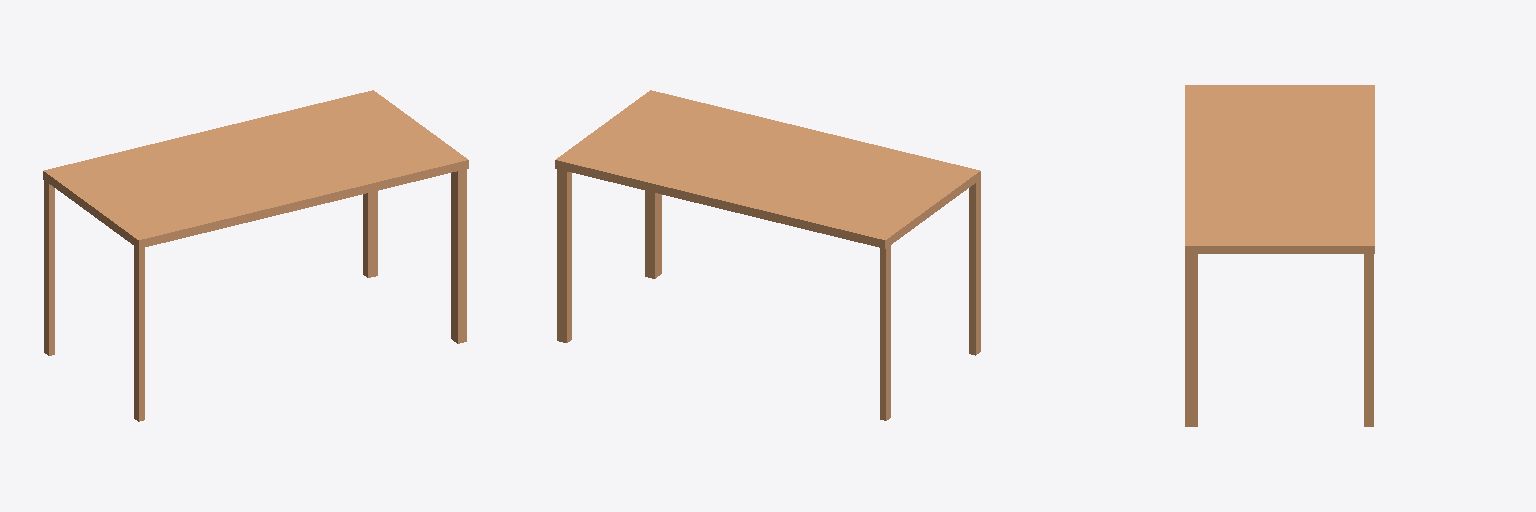
Rendered from Table.obj.
3 renders of one model, left to right at view 1: azimuth 30°, elevation 25°; view 2: azimuth 150°, elevation 25°; view 3: azimuth 270°, elevation 25°, orthographic.
Visible parts, largest first — view 1: Solid1; view 2: Solid1; view 3: Solid1.
Boxes of the visible parts, <box> form: Solid1: <box>43,90,468,421</box>; Solid1: <box>555,90,980,420</box>; Solid1: <box>1185,85,1374,426</box>.
Bounding box in the file's own units: 200 × 105 × 100.